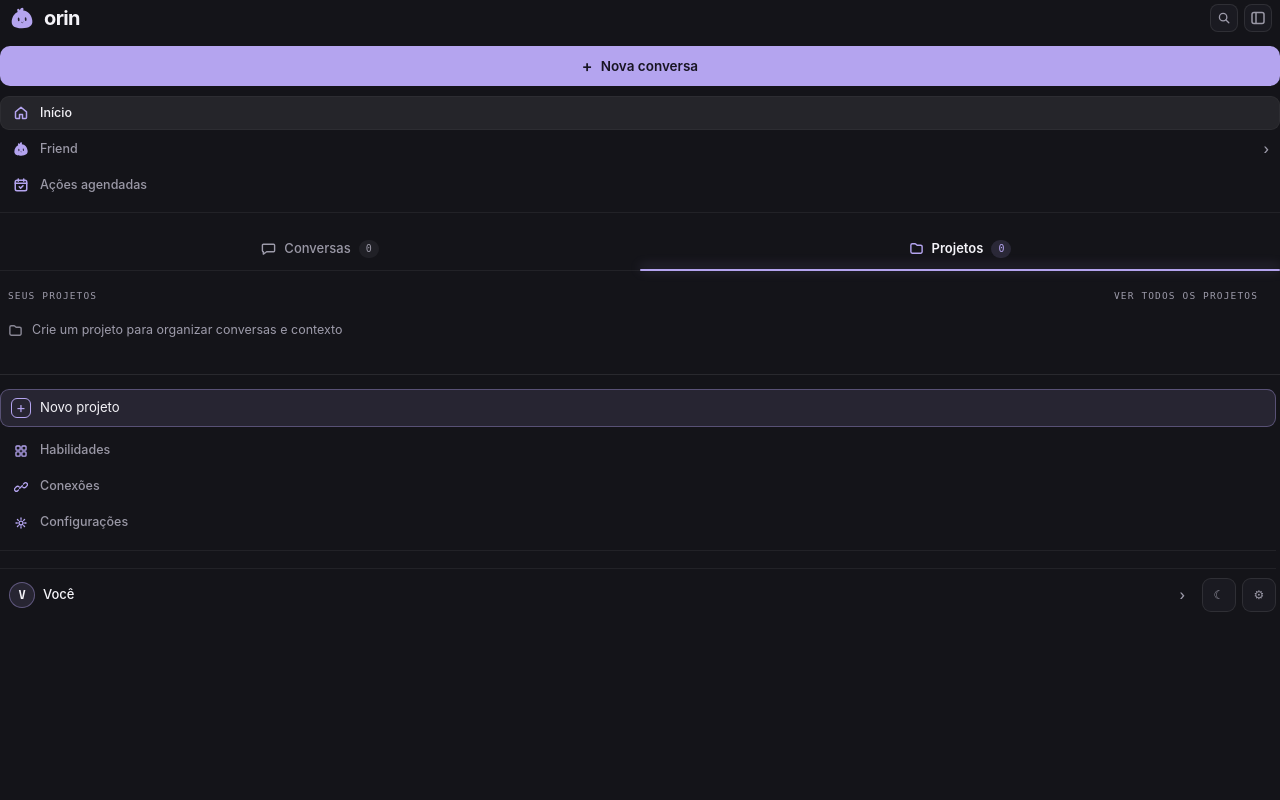
Test: UI Polish Fixes Round 2 (Dropdowns, Update Progress, Project Folder Picker, Sidebar Tabs) › provides a native folder picker button inside the Criar projeto dialog that populates the workspace path input
Click the button "+ Novo projeto" at (80, 407), box [0, 388, 1276, 426]
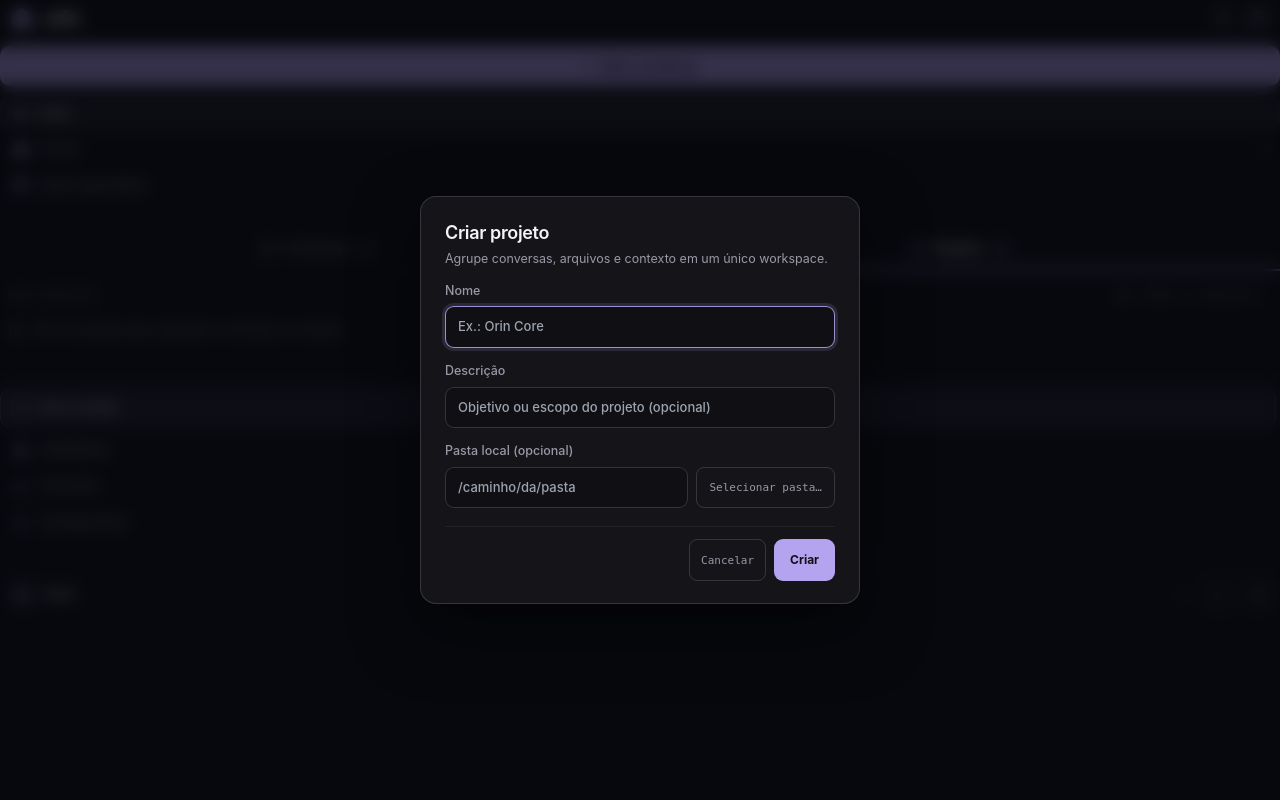
Check: the button with test id "new-project-pick-folder" is shown
Click the button with test id "new-project-pick-folder" at (766, 488), box [696, 467, 835, 508]
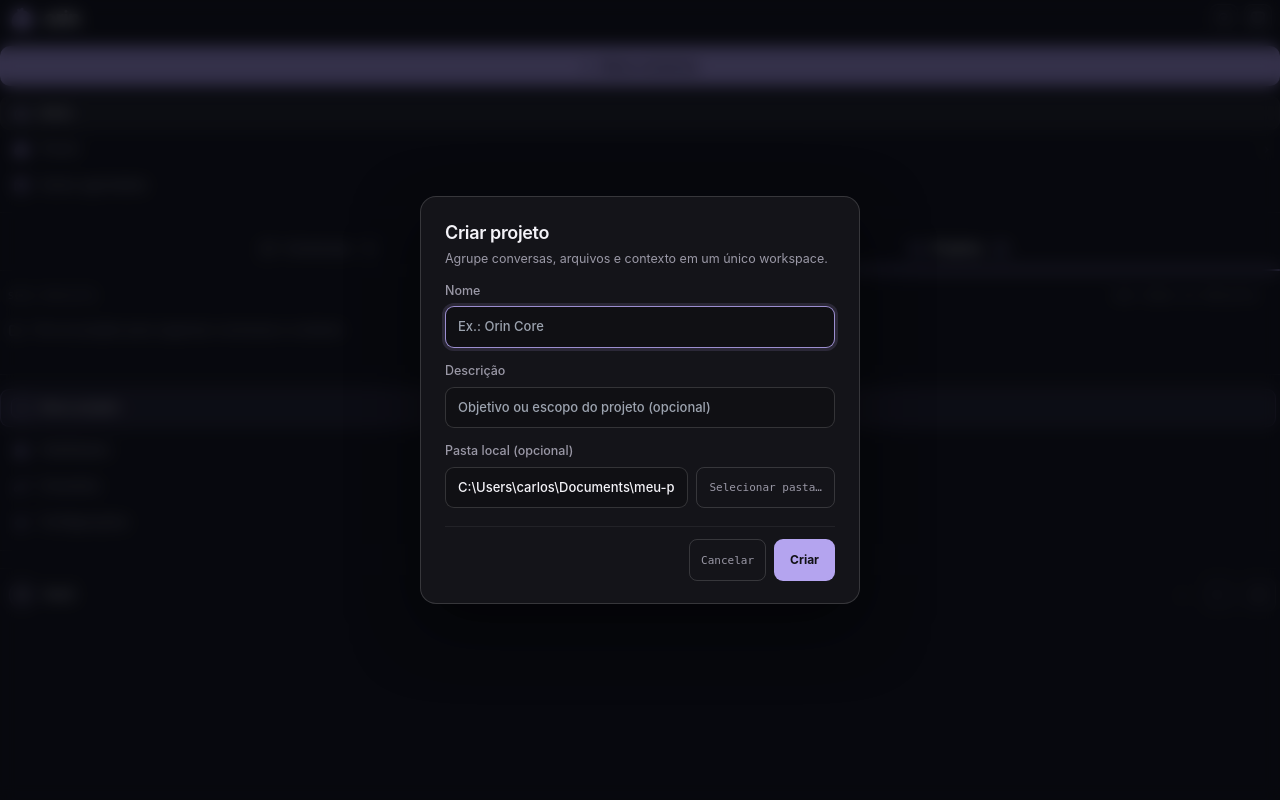
Check: the field with test id "new-project-workspace-path" holds "C:\\Users\\carlos\\Documents\\meu-projeto", box [445, 467, 688, 508]
